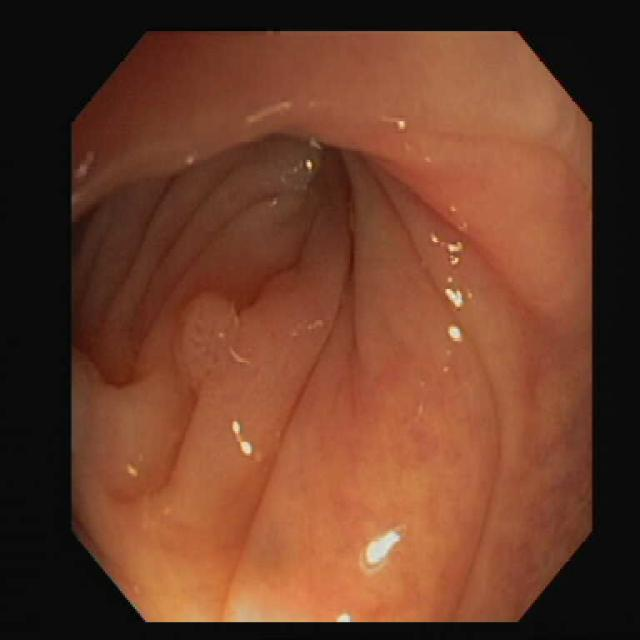tumor: (178, 280, 237, 378)
